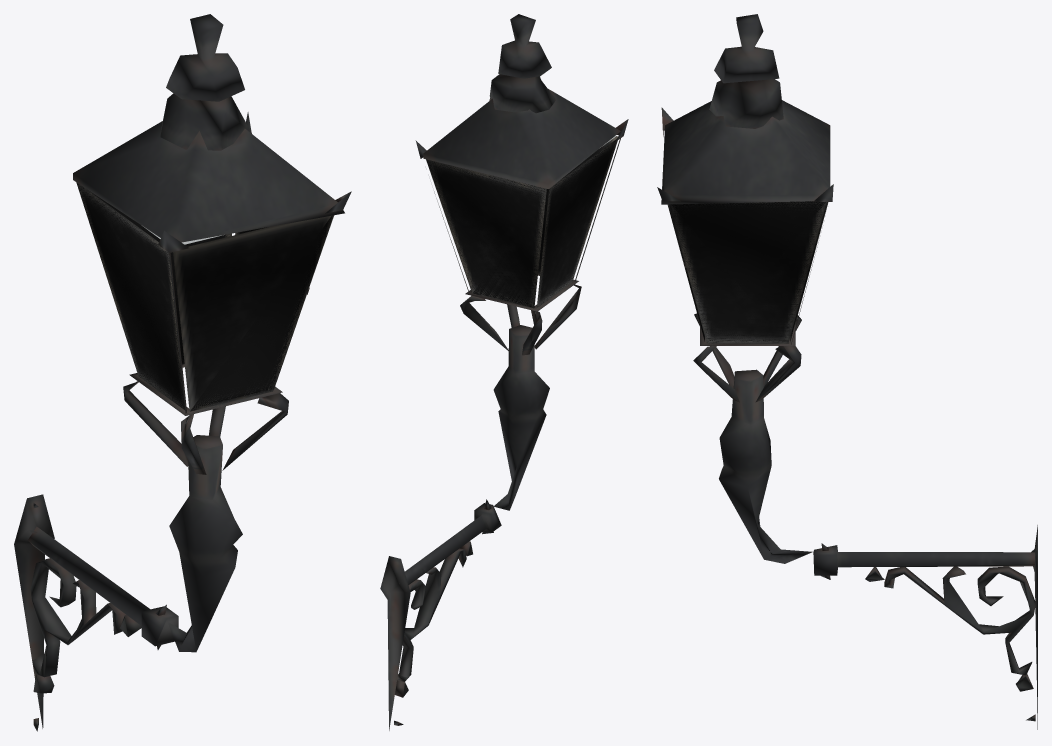
The model's file is street_lamp_wall_low.glb.
3 renders of one model, left to right at view 1: azimuth 30°, elevation 25°; view 2: azimuth 150°, elevation 25°; view 3: azimuth 270°, elevation 25°, orthographic. The views are drawn at different scales.
Visible parts, largest first — view 1: street_lamp_02; view 2: street_lamp_02; view 3: street_lamp_02.
Boxes of the visible parts, <box> form: street_lamp_02: <box>14,14,351,731</box>; street_lamp_02: <box>380,14,628,730</box>; street_lamp_02: <box>657,14,1037,729</box>.
Size of the model in its own units: 0.3836 by 1.66 by 0.805.
Materials: 2 (2 with a texture image).
